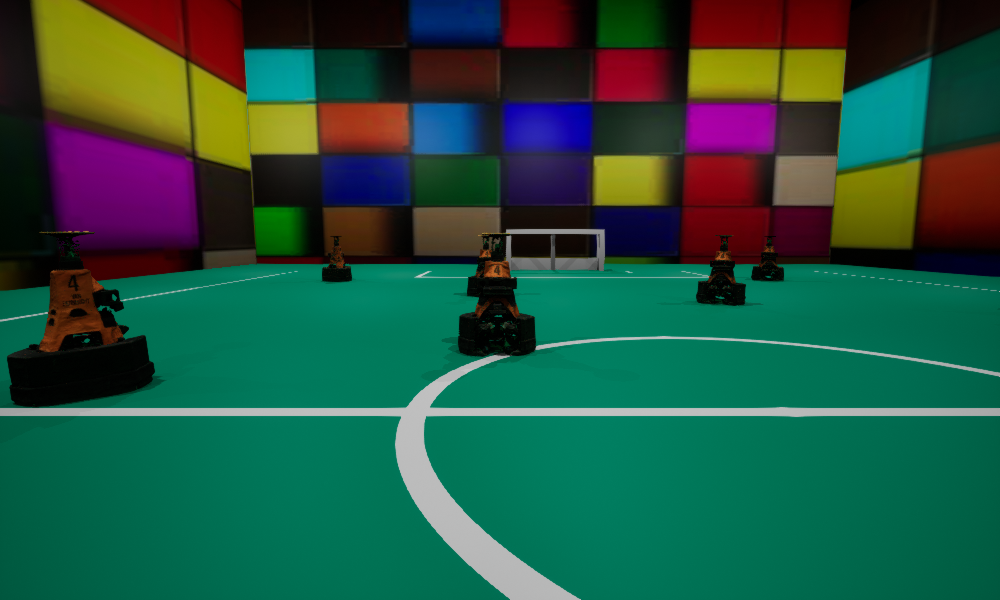o: (7, 231, 154, 406), (458, 233, 535, 355), (696, 235, 745, 304), (467, 235, 501, 296), (751, 236, 783, 280), (322, 236, 351, 281)
